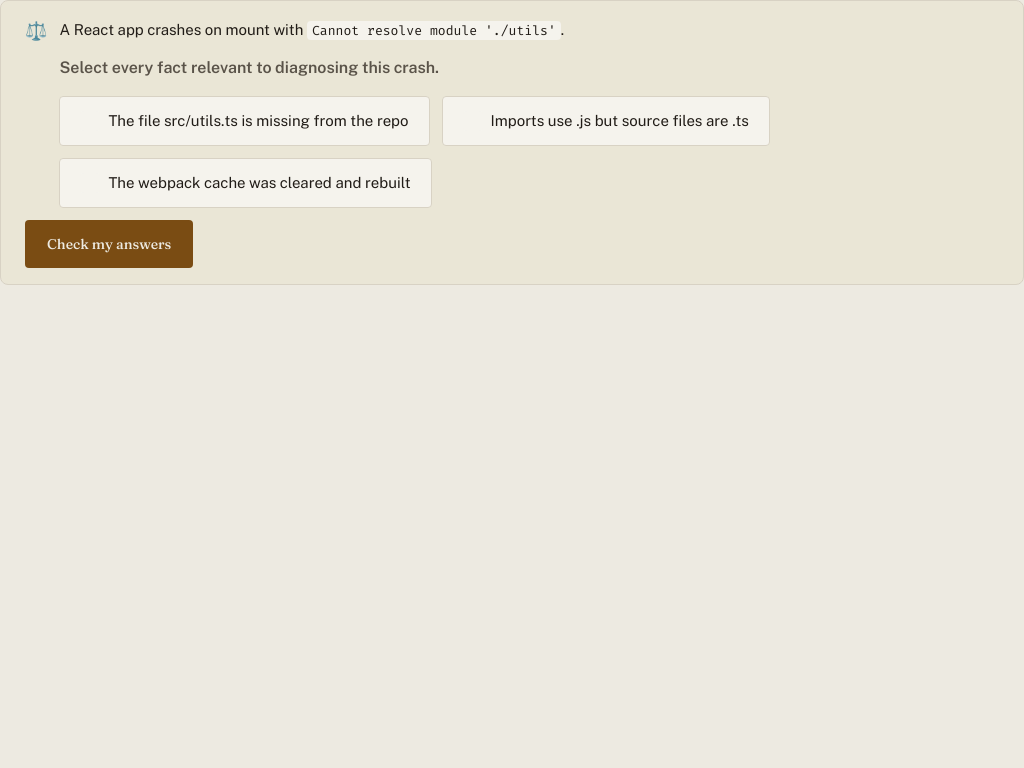
Test: EvidenceStack › reveals per-item explanations only after Check my answers
Step 1. Click the checkbox labelled "The file src/utils.ts is missing from the repo" → (245, 121), box top-left (60, 96), bottom-right (430, 146)
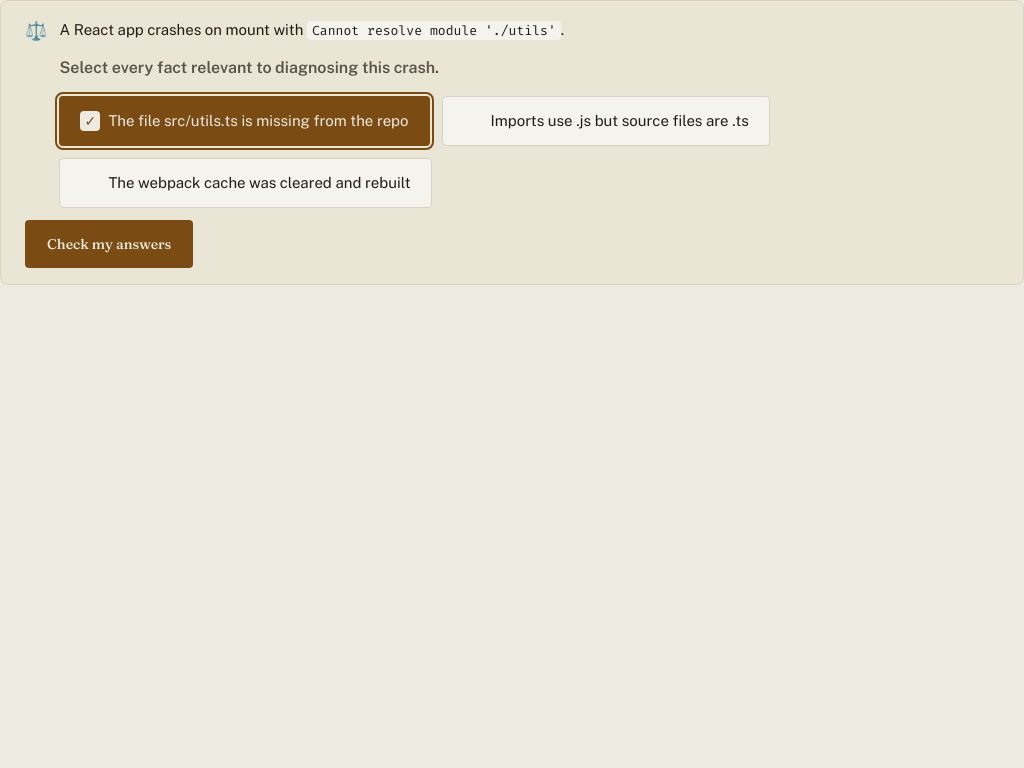
expect the text "direct cause of" is not shown: met
Step 2. Click the button "Check my answers" → (109, 244), box top-left (25, 220), bottom-right (193, 268)
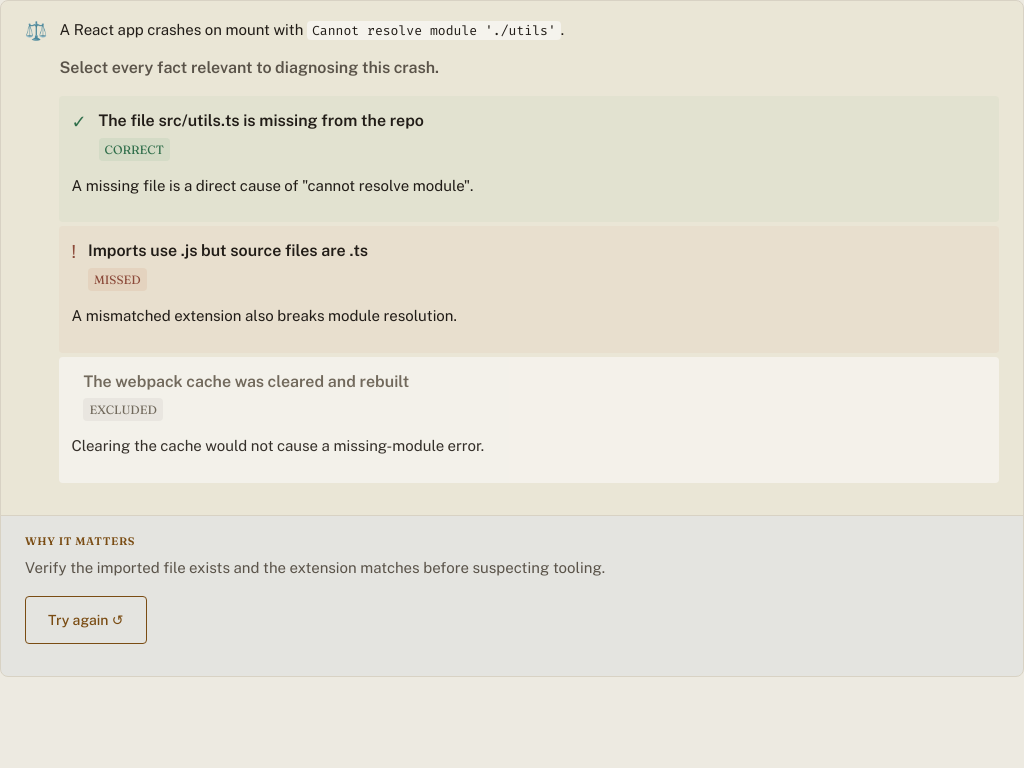
expect the text "A missing file is a direct cause of \"cannot resolve module\"." is shown: met, box top-left (72, 177), bottom-right (473, 194)
